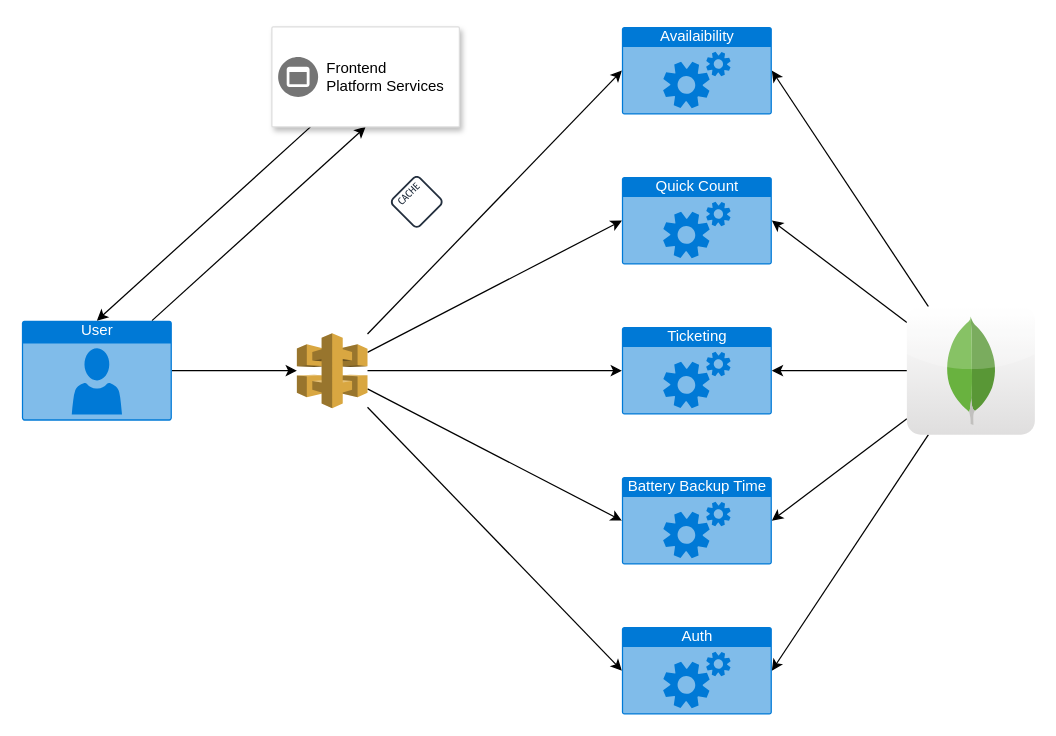
Some shapes in this 1056 by 736 pixel diagram are drawn without their labels. Each missing label, with the centre of its shape:
API Gateway: (x=332, y=370)
Cache node: (x=416, y=201)
Mongodb: (x=970, y=370)
